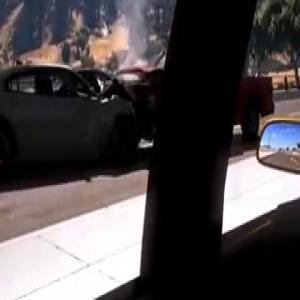superficial: (0, 40, 280, 180)
